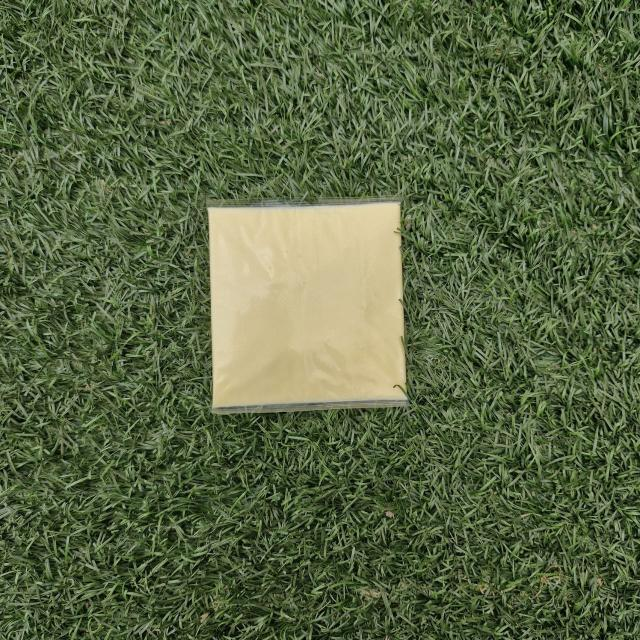food_waste: (200, 199, 417, 424)
plastic: (197, 196, 411, 412)
